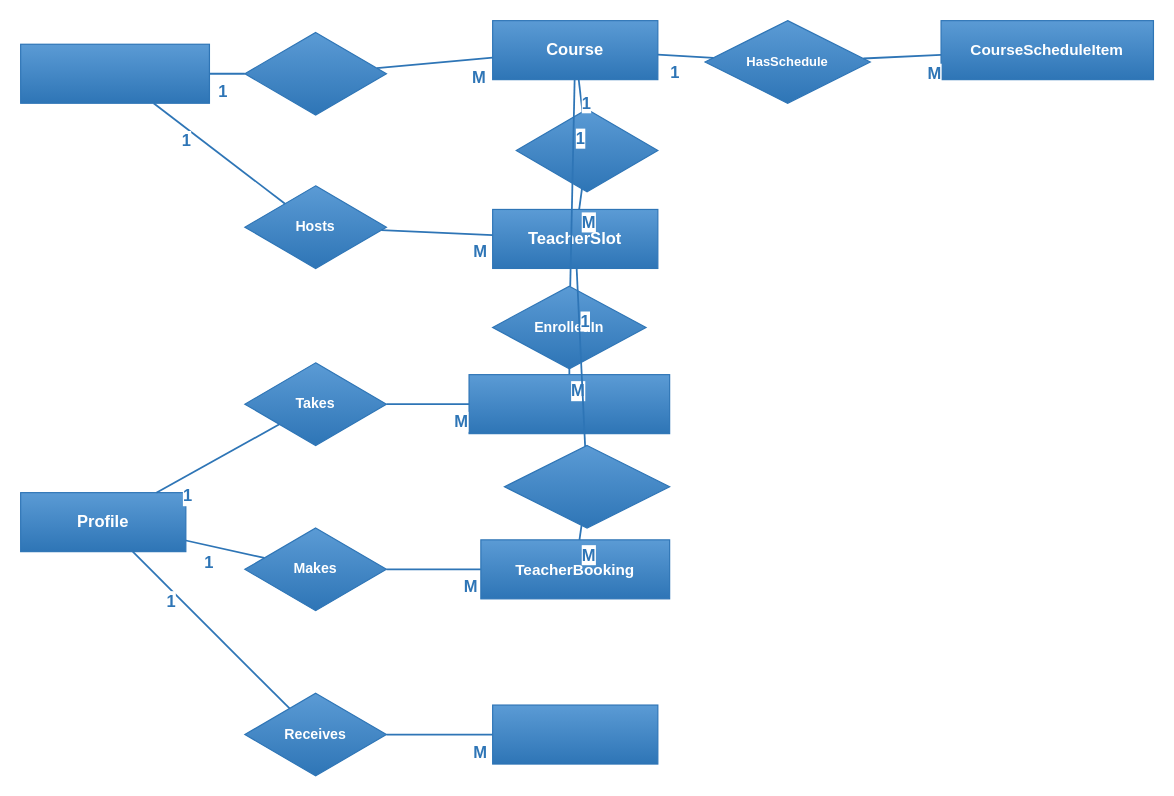
Image size: 1174x796. Some labels were removed from this diagram. Here are the shapes that lost their labels. From the top down, the centre of each, then its label:
At (x=114, y=73): "User (Teacher)".
At (x=315, y=73): "Teaches".
At (x=586, y=150): "Offers".
At (x=569, y=403): "CourseEnrollment".
At (x=586, y=486): "Reserved".
At (x=574, y=734): "Notification".
